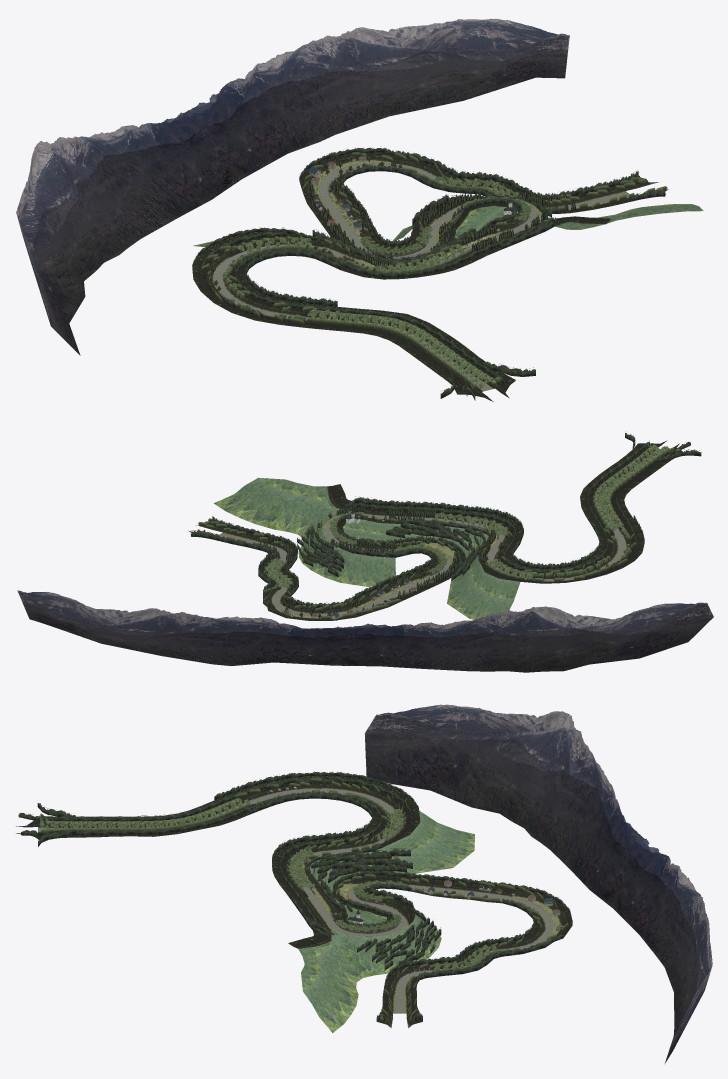
File: stage-fore.glb
3 renders of one model, top to bottom at view 1: azimuth 30°, elevation 25°; view 2: azimuth 150°, elevation 25°; view 3: azimuth 270°, elevation 25°, orthographic. The views are drawn at different scales.
Parts seen in each view (by area): view 1: part 1 chunk 1,-6, part 1 chunk -1,-2, part 6 chunk 0,-2, part 6 chunk 1,-4, part 1 chunk 2,-4, part 1 chunk 0,-4, part 1 chunk -1,-4, part 6 chunk -1,-3, part 6 chunk 2,-5, part 1 chunk 1,-4, part 6 chunk 0,-4, part 6 chunk 2,-6 (+8 smaller); view 2: part 1 chunk 1,-6, part 1 chunk 2,-4, part 1 chunk 0,-4, part 1 chunk -1,-2, part 6 chunk 1,-4, part 6 chunk 2,-5, part 6 chunk 0,-2, part 1 chunk 2,-5, part 6 chunk -1,-4, part 1 chunk -1,-4, part 1 chunk 1,-5, part 1 chunk 1,-4 (+7 smaller); view 3: part 1 chunk 1,-6, part 1 chunk 2,-4, part 1 chunk 0,-4, part 6 chunk 1,-4, part 6 chunk 2,-5, part 6 chunk -1,-3, part 6 chunk 0,-2, part 1 chunk -1,-2, part 6 chunk 0,-4, part 1 chunk 1,-4, part 1 chunk -1,-4, part 1 chunk 2,-5 (+8 smaller).
Boxes of the visible parts, box(x1,y1,x2,y2) form: part 1 chunk 1,-6: box(16, 18, 569, 355); part 1 chunk -1,-2: box(192, 268, 515, 401); part 6 chunk 0,-2: box(236, 219, 546, 384); part 6 chunk 1,-4: box(312, 197, 521, 263); part 1 chunk 2,-4: box(392, 199, 703, 241); part 1 chunk 0,-4: box(193, 206, 540, 279); part 1 chunk -1,-4: box(192, 232, 356, 319); part 6 chunk -1,-3: box(201, 230, 364, 324); part 6 chunk 2,-5: box(423, 174, 558, 217); part 1 chunk 1,-4: box(350, 200, 523, 271); part 6 chunk 0,-4: box(263, 235, 425, 271); part 6 chunk 2,-6: box(381, 148, 491, 184); part 1 chunk 1,-6: box(17, 590, 713, 672); part 1 chunk 2,-4: box(214, 477, 396, 586); part 1 chunk 0,-4: box(343, 504, 575, 619); part 1 chunk -1,-2: box(570, 440, 679, 579); part 6 chunk 1,-4: box(337, 512, 485, 580); part 6 chunk 2,-5: box(258, 520, 370, 590); part 6 chunk 0,-2: box(358, 440, 649, 573); part 1 chunk 2,-5: box(196, 524, 358, 613); part 6 chunk -1,-4: box(504, 550, 607, 582); part 1 chunk -1,-4: box(478, 534, 630, 583); part 1 chunk 1,-5: box(354, 554, 443, 606); part 1 chunk 1,-4: box(333, 518, 498, 575); part 1 chunk 1,-6: box(364, 704, 712, 1063); part 1 chunk 2,-4: box(288, 899, 441, 1032); part 1 chunk 0,-4: box(272, 802, 474, 929); part 6 chunk 1,-4: box(310, 848, 412, 927); part 6 chunk 2,-5: box(357, 902, 496, 977); part 6 chunk -1,-3: box(38, 776, 411, 821); part 6 chunk 0,-2: box(38, 791, 381, 927); part 1 chunk -1,-2: box(16, 775, 378, 839); part 6 chunk 0,-4: box(304, 823, 421, 887); part 1 chunk 1,-4: box(300, 852, 415, 932); part 1 chunk -1,-4: box(246, 783, 420, 852); part 1 chunk 2,-5: box(377, 905, 546, 1028).
Bounding box in the file's own units: 2364 × 435 × 2347.
77 materials, 76 textured.
